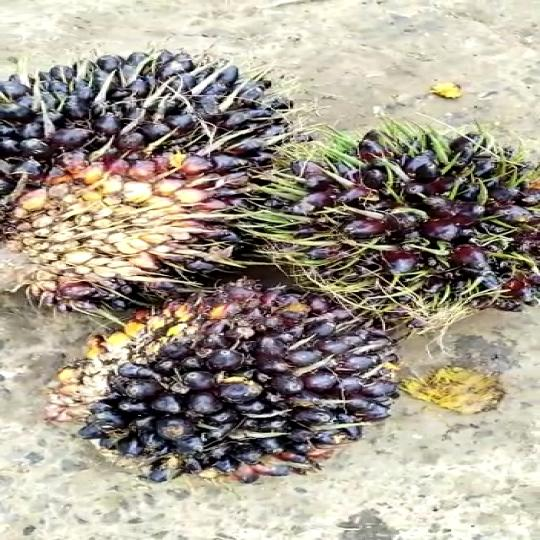mentah: (0, 39, 293, 310)
